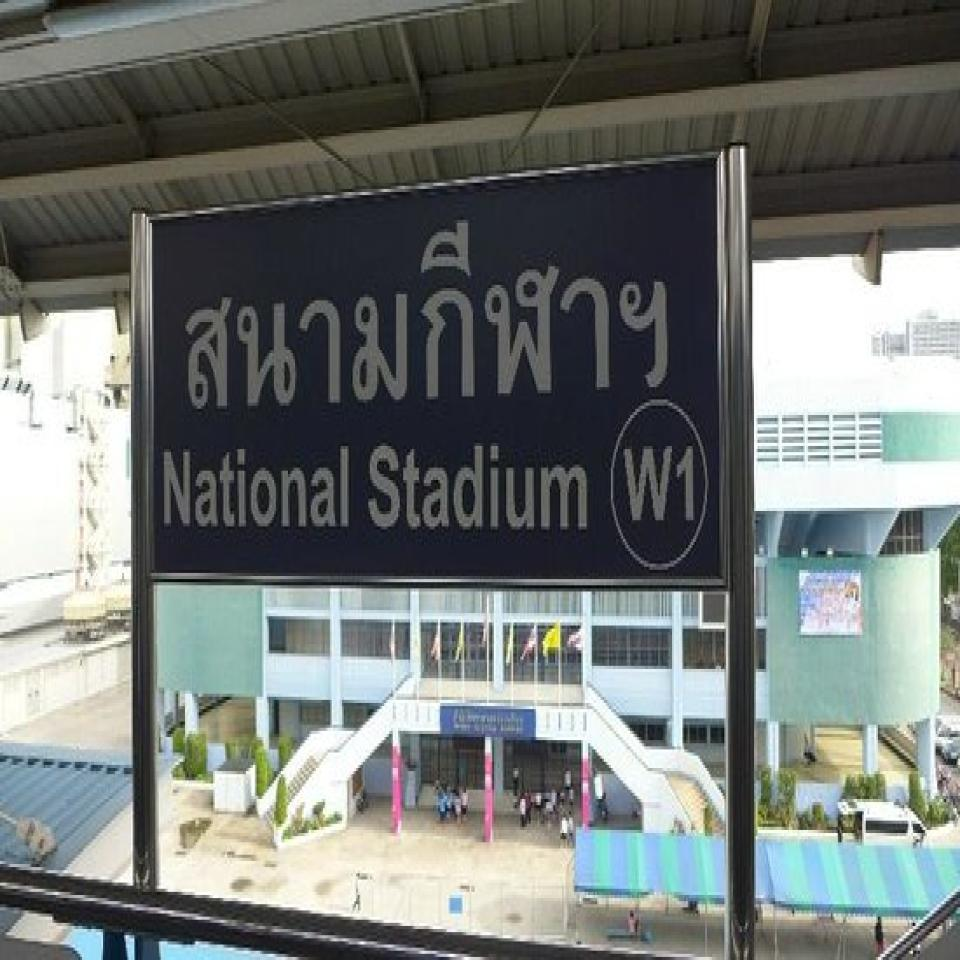signage: (143, 146, 730, 592)
